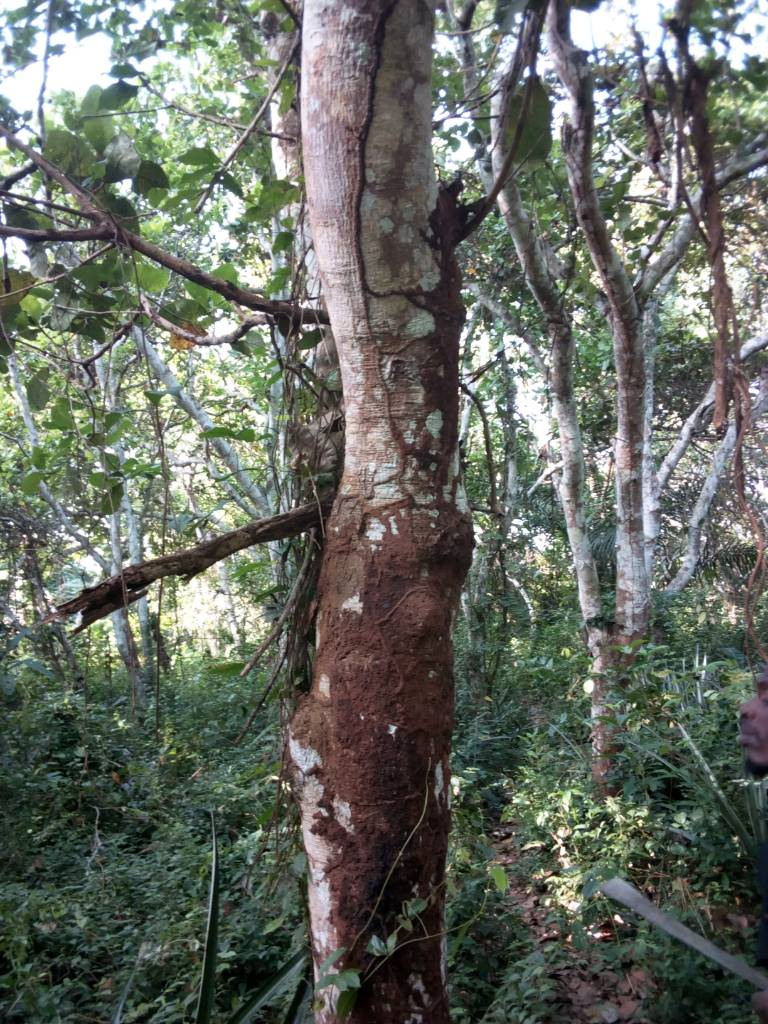Termites: (327, 500, 457, 1022), (350, 13, 465, 472)
